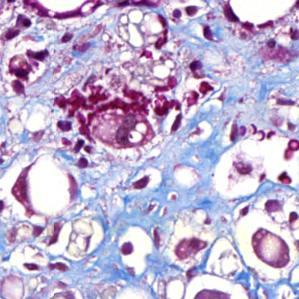steatosis: (39, 0, 85, 13)
